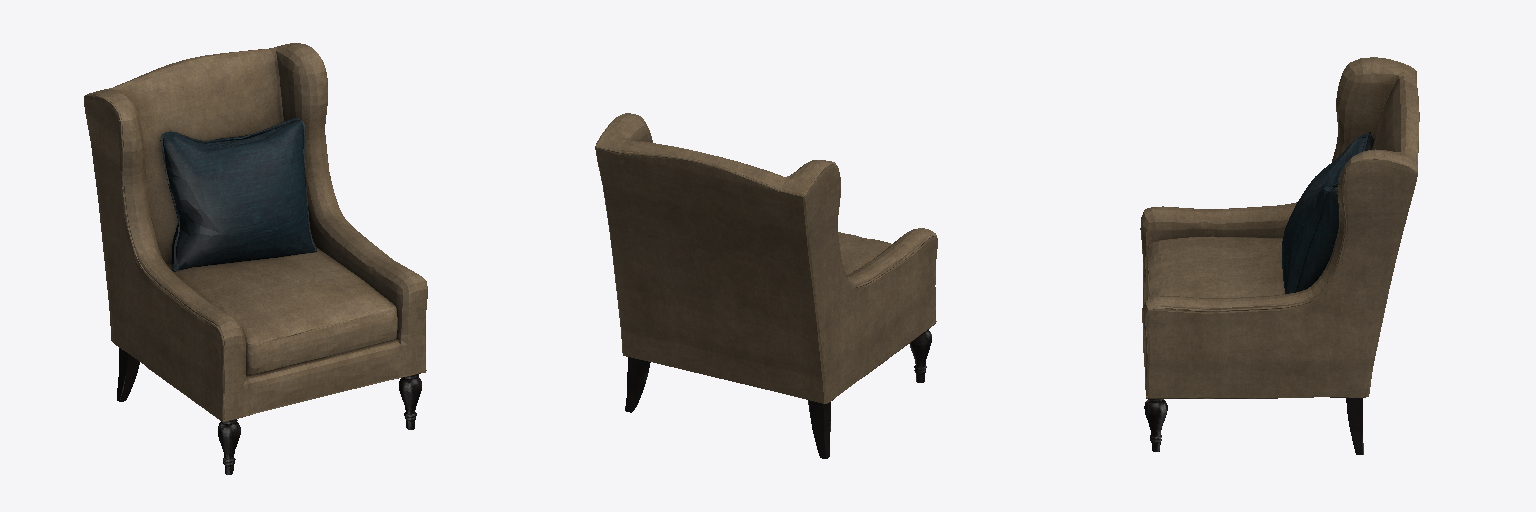
3 renders of one model, left to right at view 1: azimuth 30°, elevation 25°; view 2: azimuth 150°, elevation 25°; view 3: azimuth 270°, elevation 25°, orthographic.
Parts seen in each view (by area): view 1: solid_002, solid_003, solid_001; view 2: solid_002, solid_001; view 3: solid_002, solid_003, solid_001.
Boxes of the visible parts, x1=… form: solid_002: x1=84, y1=43, x2=427, y2=422; solid_003: x1=160, y1=118, x2=316, y2=271; solid_001: x1=117, y1=348, x2=421, y2=474; solid_002: x1=595, y1=113, x2=937, y2=403; solid_001: x1=625, y1=329, x2=931, y2=458; solid_002: x1=1140, y1=57, x2=1419, y2=398; solid_003: x1=1282, y1=132, x2=1373, y2=293; solid_001: x1=1144, y1=398, x2=1363, y2=454.
Size of the model in its own units: 1.03 by 1.41 by 1.19.
1 materials, 1 textured.